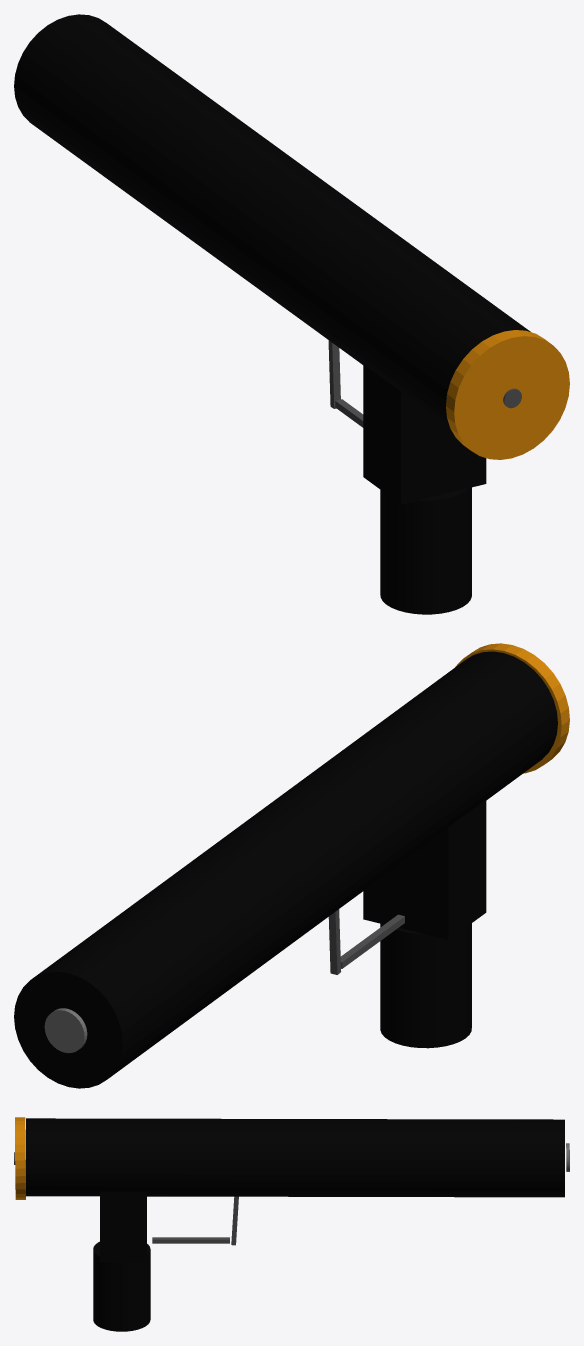
The model's file is gun.fbx.
3 views of the same model, one above another, from view 1: azimuth 30°, elevation 25°; view 2: azimuth 150°, elevation 25°; view 3: azimuth 270°, elevation 25° (orthographic). The views are drawn at different scales.
Visible parts, largest first — view 1: Cylinder, Cylinder.002, Cylinder.001, Cube, Cube.003; view 2: Cylinder, Cylinder.001, Cube, Cylinder.002, Cylinder.004, Cube.003, Cube.001, Cube.002; view 3: Cylinder, Cylinder.001, Cube, Cylinder.002, Cube.003, Cube.001.
Boxes of the visible parts, x1,y1,x2,y2 form: Cylinder: (14, 14, 530, 428); Cylinder.002: (446, 330, 569, 459); Cylinder.001: (380, 487, 471, 614); Cube: (363, 389, 486, 504); Cube.003: (363, 364, 425, 416); Cylinder: (14, 651, 557, 1088); Cylinder.001: (380, 923, 471, 1048); Cube: (363, 823, 486, 939); Cylinder.002: (455, 643, 569, 773); Cylinder.004: (44, 1008, 87, 1053); Cube.003: (426, 800, 486, 850); Cube.001: (340, 914, 404, 968); Cube.002: (328, 909, 341, 974); Cylinder: (26, 1118, 564, 1197); Cylinder.001: (93, 1241, 150, 1331); Cube: (100, 1207, 146, 1262); Cylinder.002: (15, 1117, 25, 1199); Cube.003: (100, 1192, 146, 1207); Cube.001: (152, 1237, 229, 1243).
Bounding box in the file's own units: 213 × 563 × 1427.
